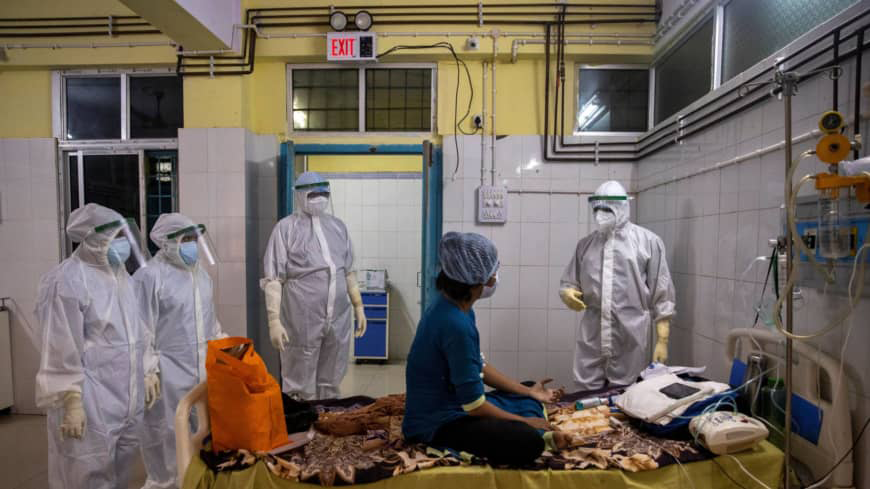Coverall: (37, 204, 150, 489), (260, 166, 371, 405), (132, 212, 232, 476), (557, 180, 679, 394)
Gloves: (263, 276, 291, 353), (345, 276, 373, 344), (59, 390, 90, 439), (647, 318, 671, 365), (557, 282, 587, 314)
with_mask: (175, 234, 207, 269), (99, 237, 132, 267), (593, 204, 618, 236), (304, 192, 328, 219)
